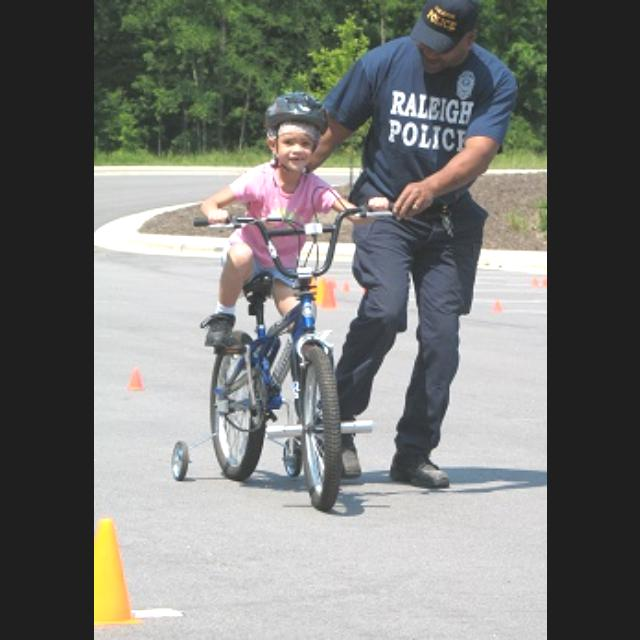With Helmet: (257, 92, 331, 172)
